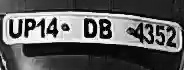1: (38, 17, 47, 40)
2: (166, 25, 177, 48)
3: (143, 23, 155, 46)
4: (133, 19, 144, 44), (47, 17, 58, 40)
5: (155, 22, 167, 48)
B: (97, 16, 113, 40)
D: (80, 16, 99, 41)
P: (23, 18, 37, 41)
U: (5, 17, 23, 40)
